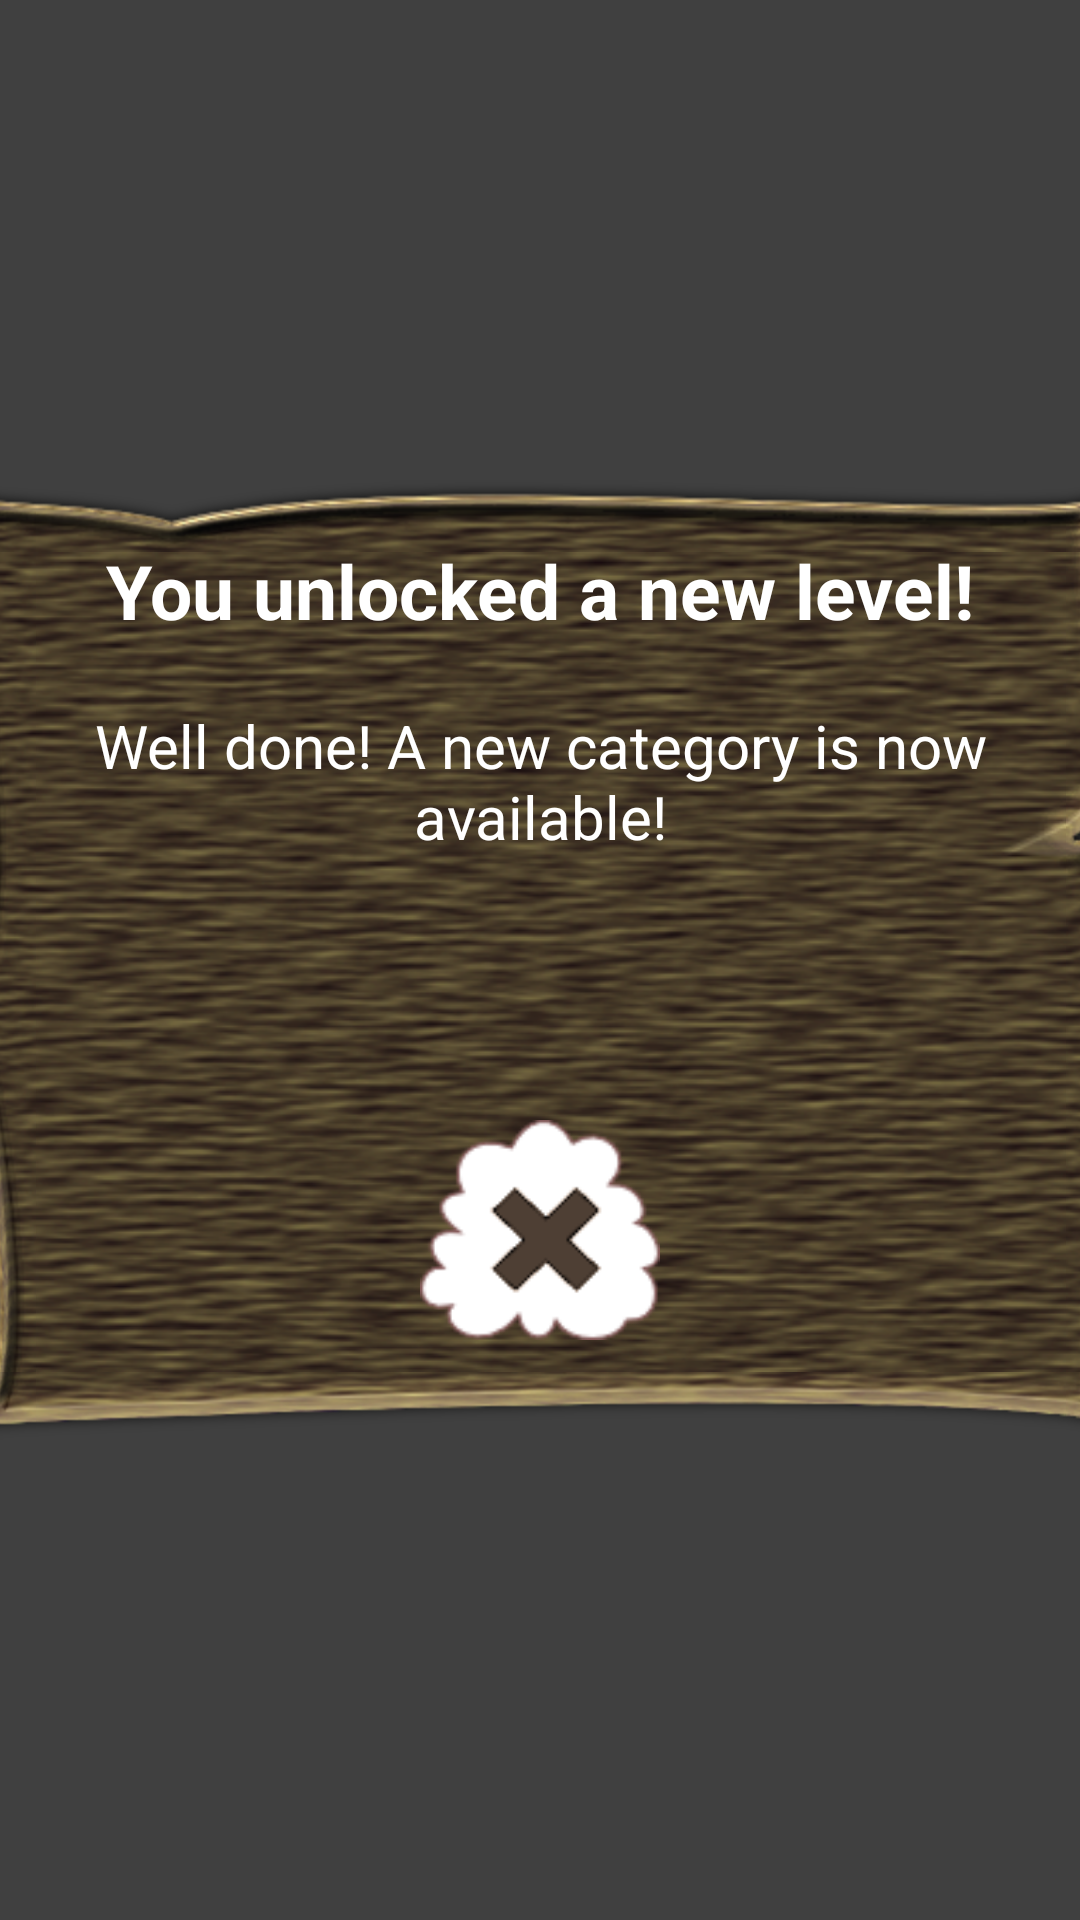

Icons on this 1080x1920 Android screen, each with its box as (x1, y1, x2, y2):
quit: (420, 1110, 660, 1350)
